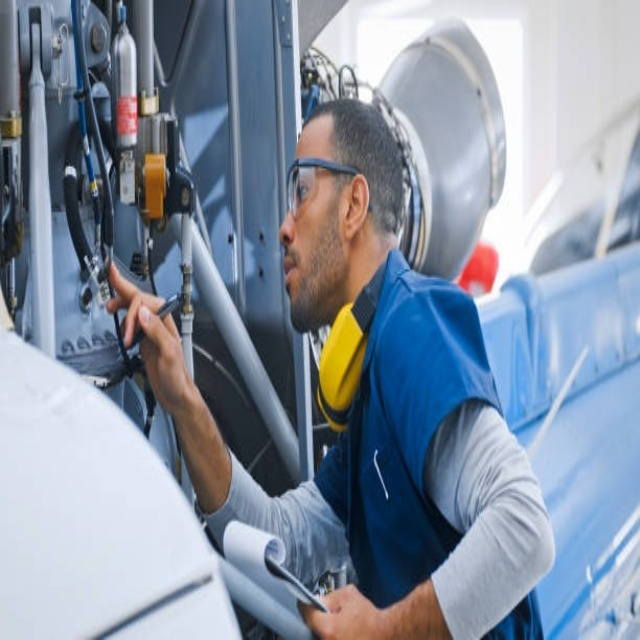Gafas: (286, 158, 367, 220)
Sin_guantes: (114, 267, 195, 412), (296, 573, 388, 636)
Sin_mascara: (281, 238, 308, 319)
